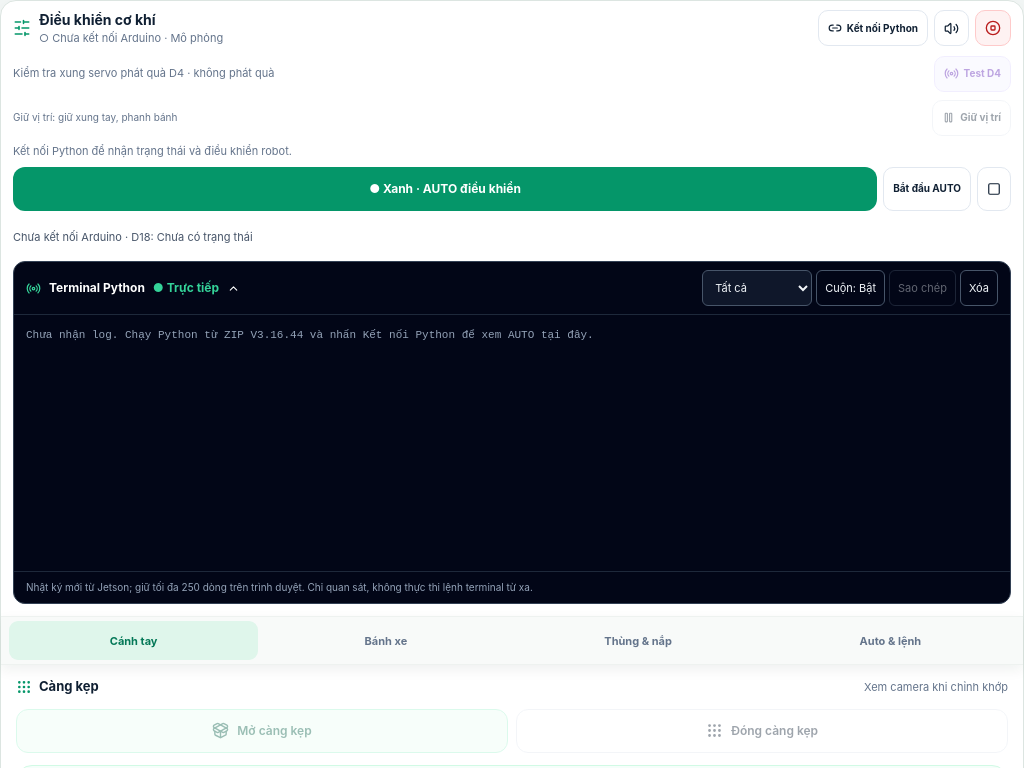
it: Samsung contest greeting in the Vercel browser › still welcomes the user when the later connection request fails
Click the button "Kết nối Python". click: (873, 28)
box: [818, 10, 928, 46]
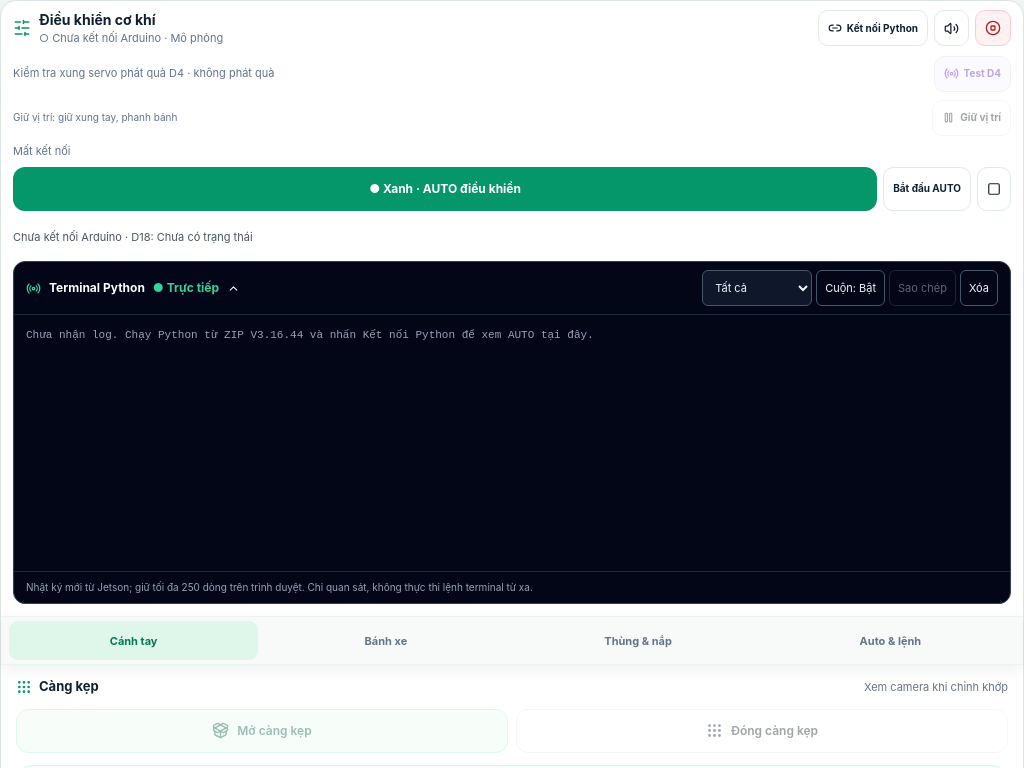
Expected: the text "Mất kết nối" is shown, [13, 144, 70, 158]
